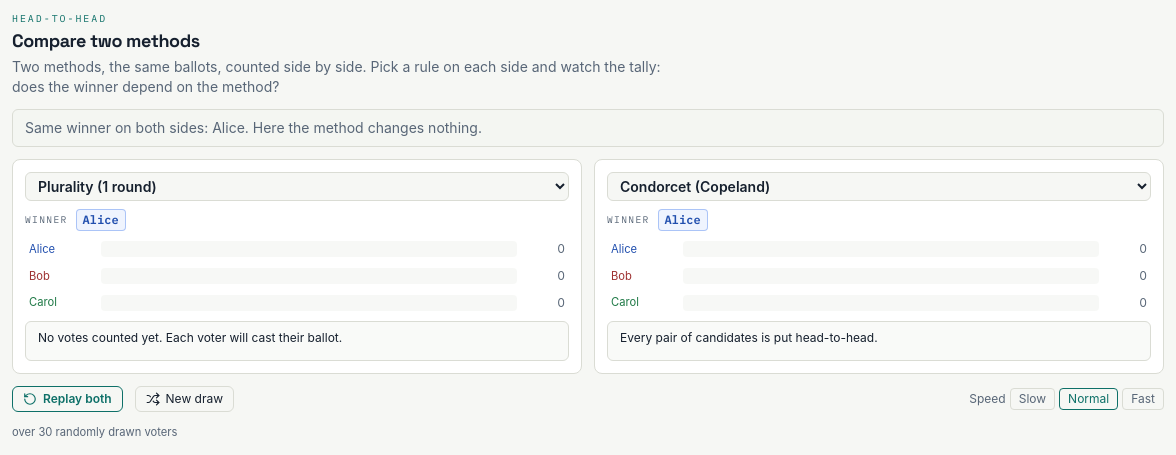
MethodDuel › names a winner per side, except the lottery, which has none
Check: the text with test id "duel-winner-a" reads "Alice", box [83, 212, 119, 227]
Select "Random ballot (lottery)" in the dropdown with test id "duel-rule-b": (879, 186) [607, 172, 1151, 201]
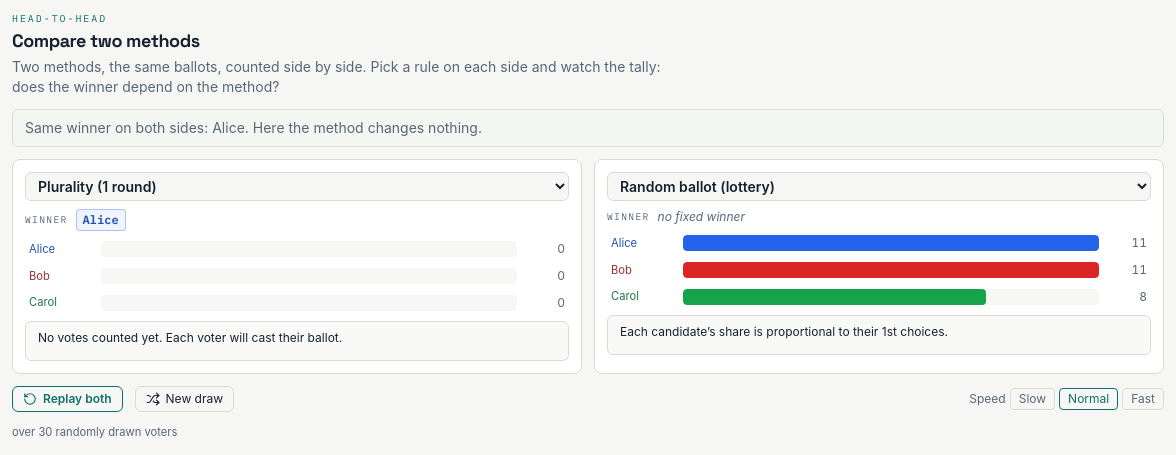
Select "Random ballot (lottery)" in the dropdown with test id "duel-rule-a": (297, 186) [25, 172, 569, 201]
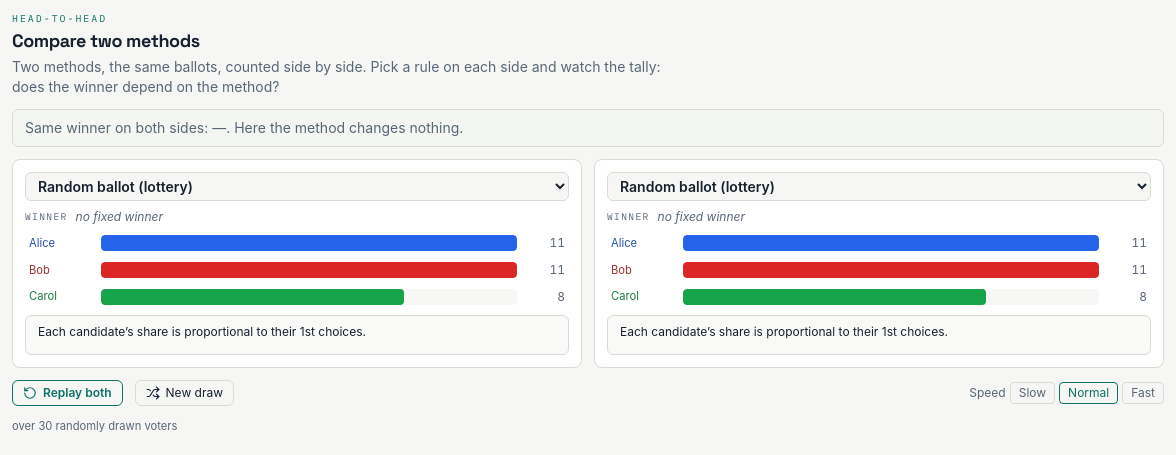
Check: the number of elements with test id "no-fixed-winner" is 2, box [76, 209, 163, 224]; [658, 209, 745, 224]
